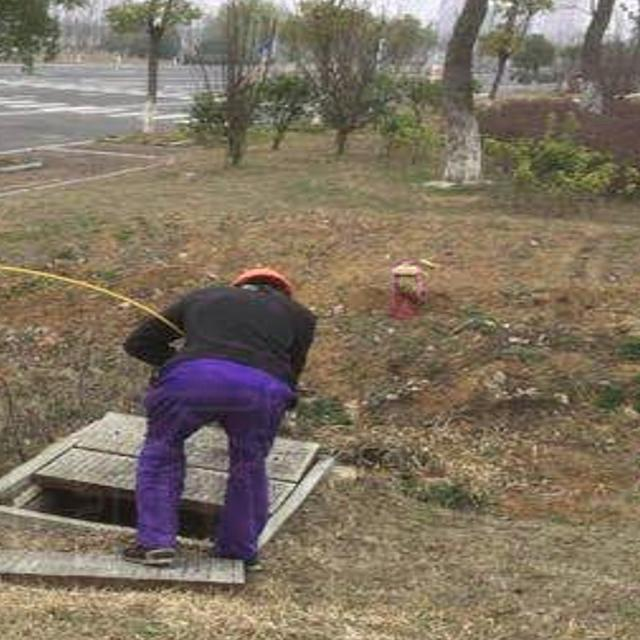uncovered: (0, 403, 337, 589)
